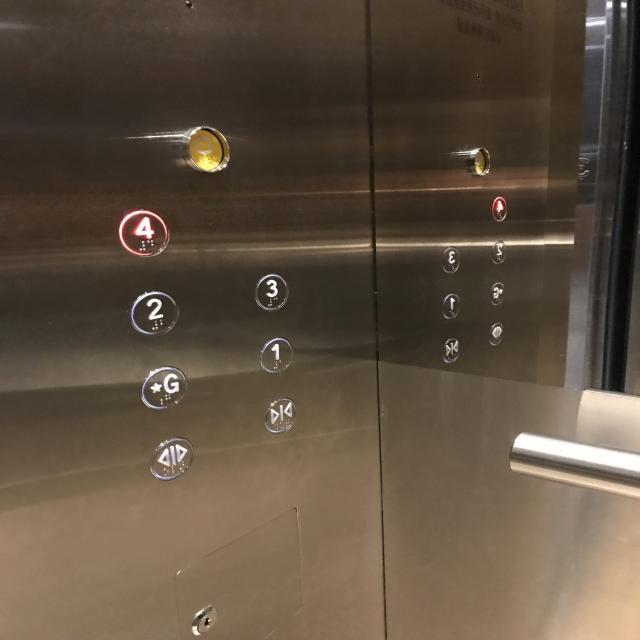1: (257, 336, 294, 374)
2: (128, 290, 180, 337)
3: (251, 272, 291, 312)
4: (116, 208, 171, 258)
alarm: (183, 123, 232, 173), (468, 146, 492, 176)
close: (262, 396, 298, 433), (440, 336, 460, 364)
keyhole: (187, 606, 222, 635)
open: (146, 436, 196, 481), (486, 320, 505, 346)
sG: (138, 365, 188, 410)
unknown: (440, 292, 462, 320), (439, 246, 461, 274), (488, 280, 507, 307), (489, 239, 507, 265), (491, 195, 508, 222)
